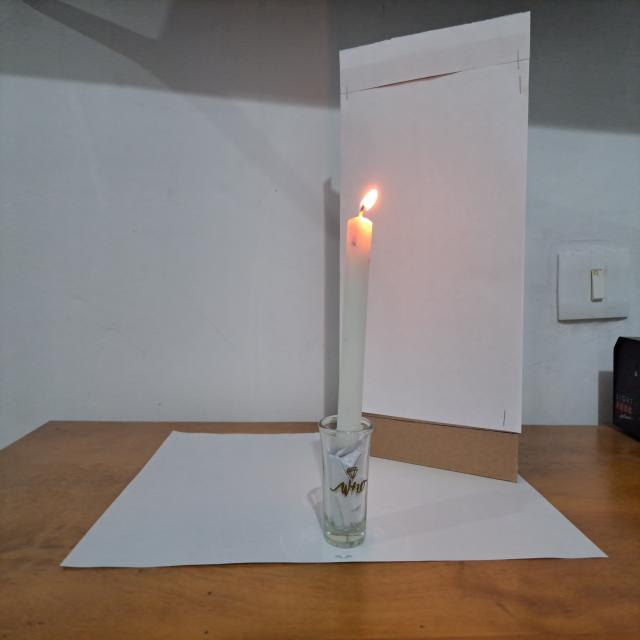candle: (315, 170, 387, 552)
wall: (328, 7, 534, 489)
